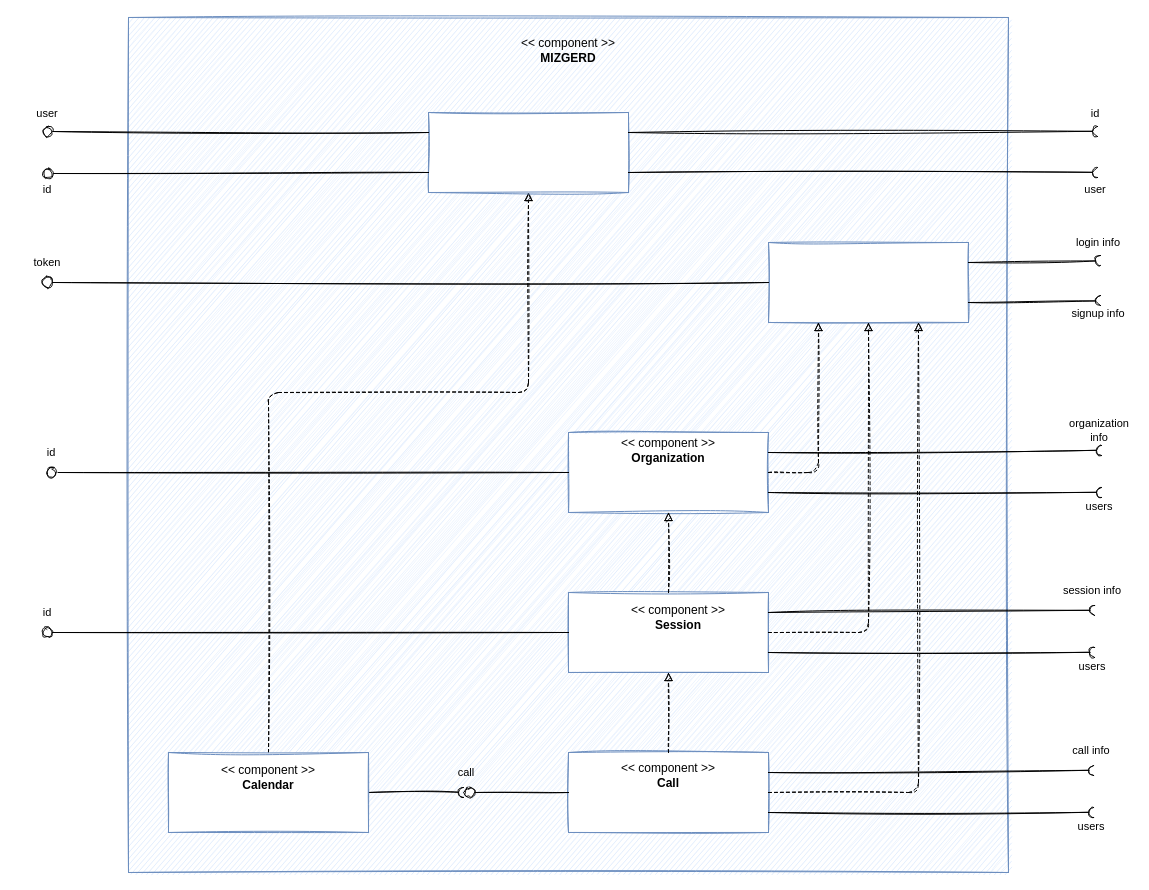
Some shapes in this 1149 by 890 pixel diagram are drawn without their labels. The centre of each missing label's shape, as x and y in pixels:
"<< component >> Auth" goes at point 868,282.
"<< component >> User" goes at point 528,152.
